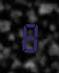eight: (19, 20, 38, 52)
